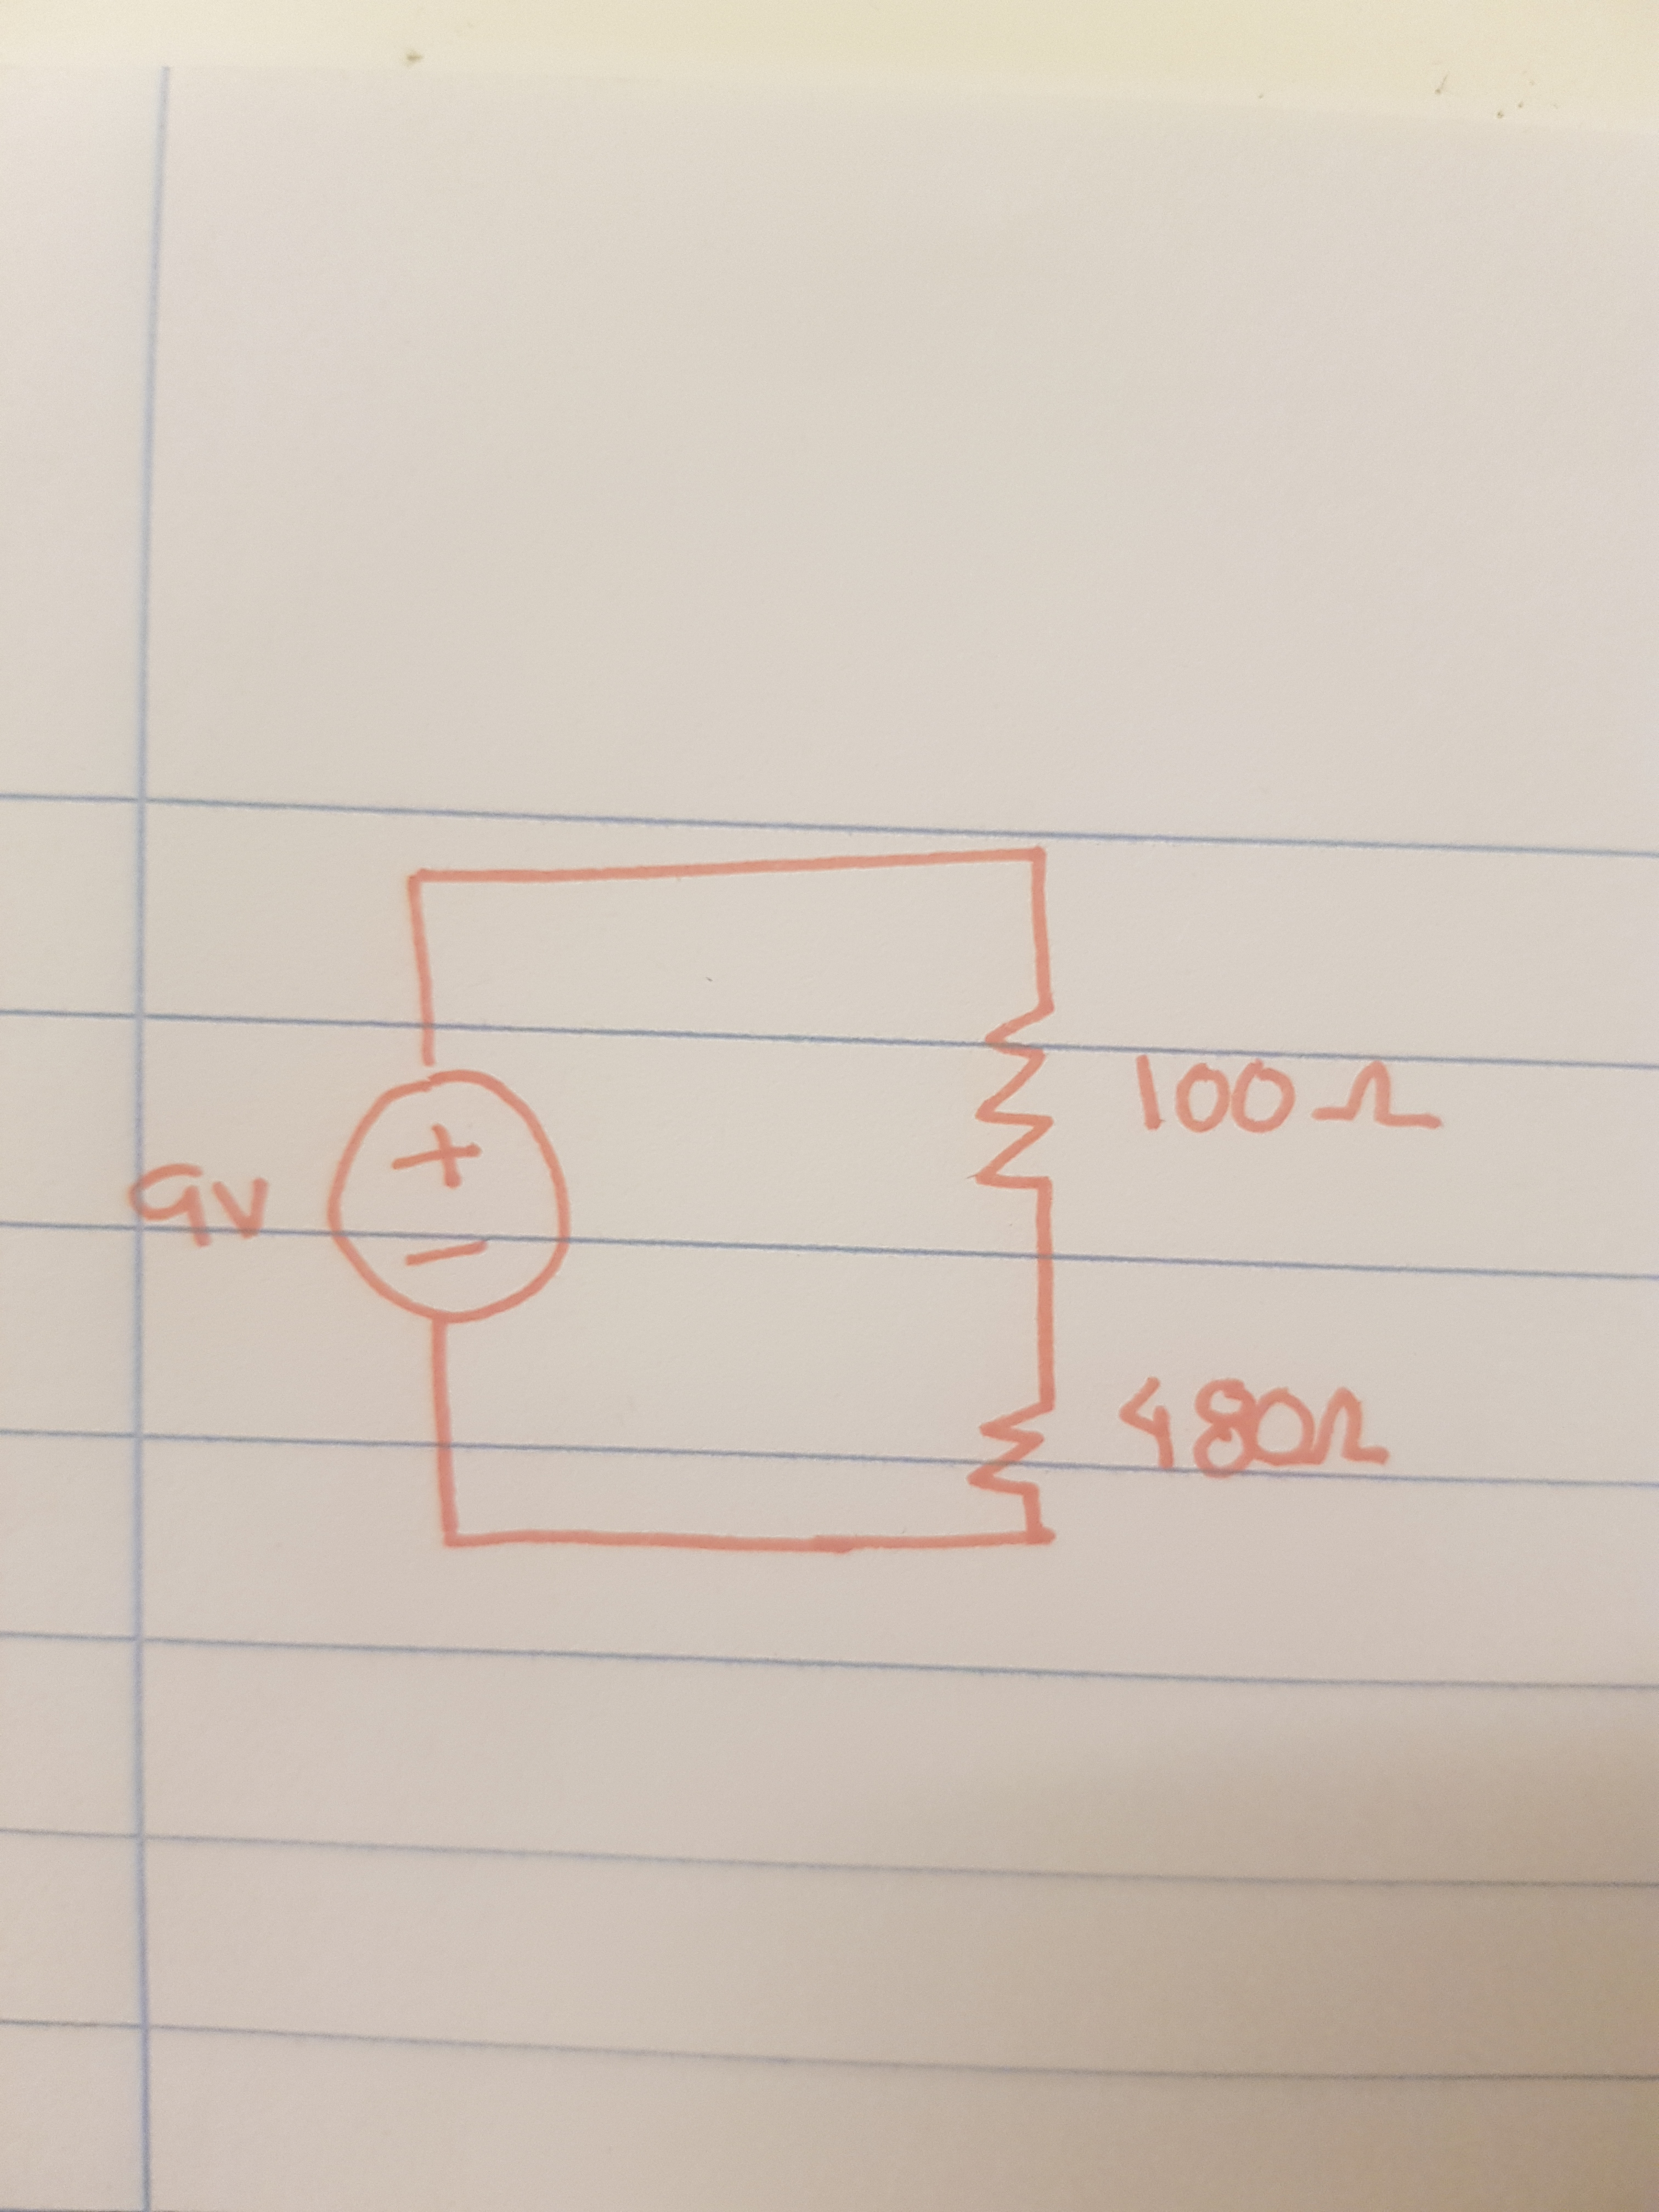junction: (392, 855, 439, 902), (1014, 834, 1061, 881), (425, 1514, 472, 1561), (1012, 1519, 1061, 1554)
resistor: (971, 988, 1066, 1217), (962, 1399, 1072, 1494)
text: (1131, 1036, 1453, 1141), (1119, 1369, 1399, 1484), (122, 1162, 279, 1251)
voltage.dc: (301, 1066, 589, 1334)
